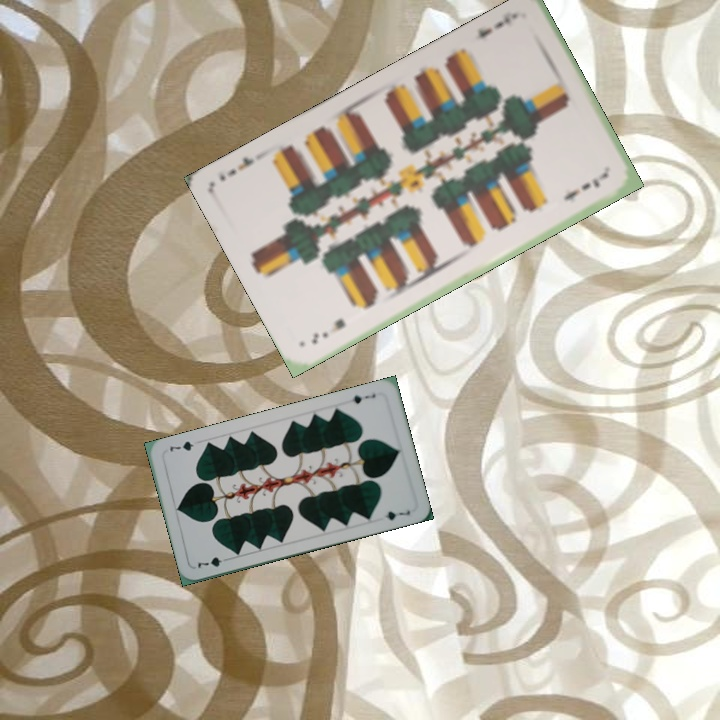E7: (474, 8, 521, 41), (307, 314, 348, 347)
G7: (193, 553, 233, 571), (348, 389, 378, 406)
